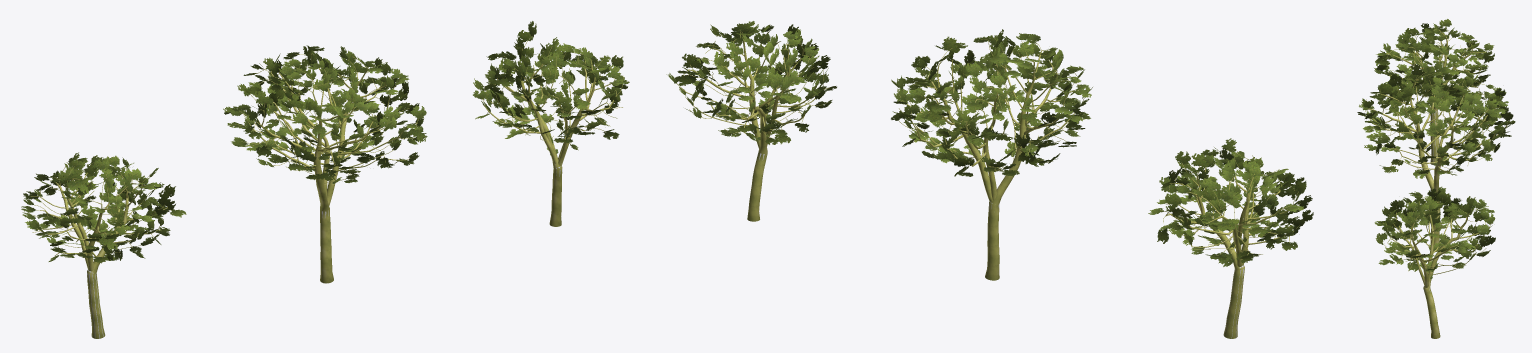
The model's file is fever_tree.gltf.
3 views of the same model, side by side, from view 1: azimuth 30°, elevation 25°; view 2: azimuth 150°, elevation 25°; view 3: azimuth 270°, elevation 25° (orthographic). The views are drawn at different scales.
Parts seen in each view (by area): view 1: FeverTree2_LOD0, FeverTree1_LOD0, FeverTree3_LOD0; view 2: FeverTree2_LOD0, FeverTree1_LOD0, FeverTree3_LOD0; view 3: FeverTree2_LOD0, FeverTree3_LOD0, FeverTree1_LOD0.
Part boxes in pixels (bbox=[...]): FeverTree2_LOD0: bbox=[223, 45, 427, 283]; FeverTree1_LOD0: bbox=[21, 152, 186, 338]; FeverTree3_LOD0: bbox=[473, 21, 629, 226]; FeverTree2_LOD0: bbox=[891, 29, 1092, 280]; FeverTree1_LOD0: bbox=[1148, 138, 1313, 338]; FeverTree3_LOD0: bbox=[666, 21, 836, 221]; FeverTree2_LOD0: bbox=[1357, 62, 1515, 251]; FeverTree3_LOD0: bbox=[1374, 186, 1495, 338]; FeverTree1_LOD0: bbox=[1374, 19, 1494, 164].
Size of what is drawn, in the model's own units: 40.03 by 14.33 by 12.25.
Materials: 2 (2 with a texture image).
